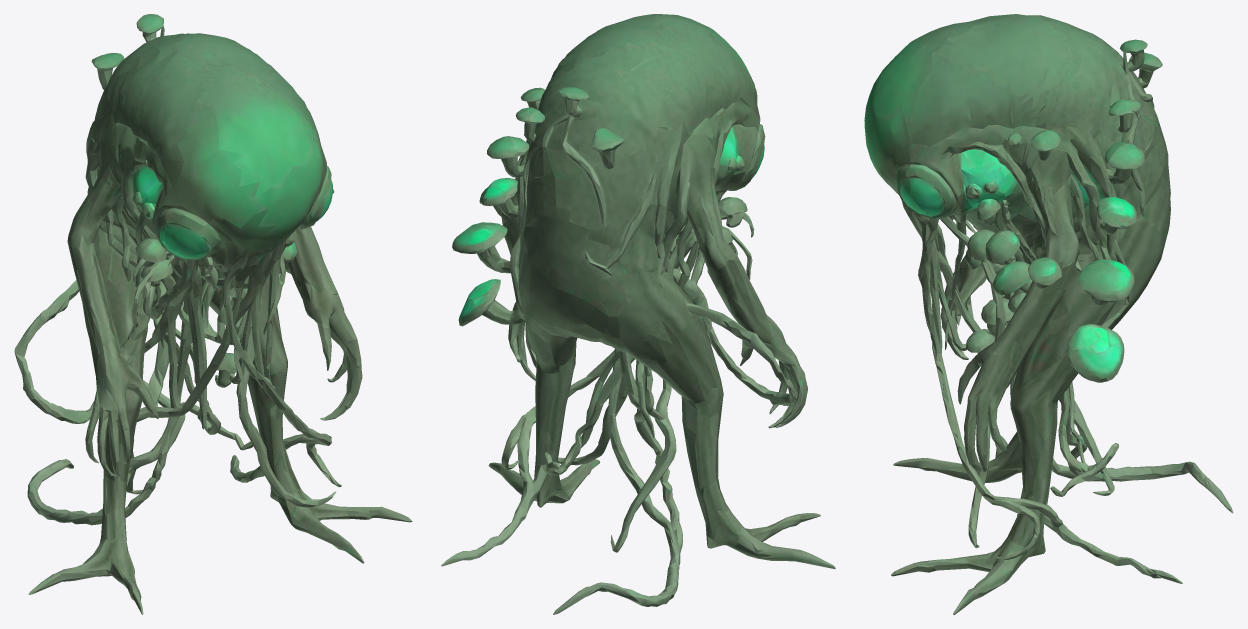
The model's file is fb_spore.glb.
3 views of the same model, side by side, from view 1: azimuth 30°, elevation 25°; view 2: azimuth 150°, elevation 25°; view 3: azimuth 270°, elevation 25° (orthographic).
Bounding box in the file's own units: 1.45 × 1.9 × 1.26.
Materials: 1 (1 with a texture image).
